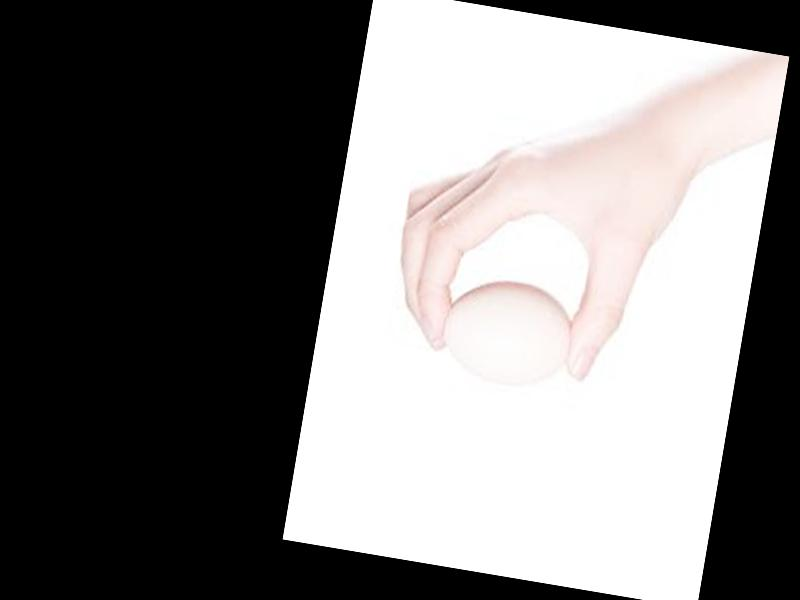Eggs: (435, 271, 580, 394)
